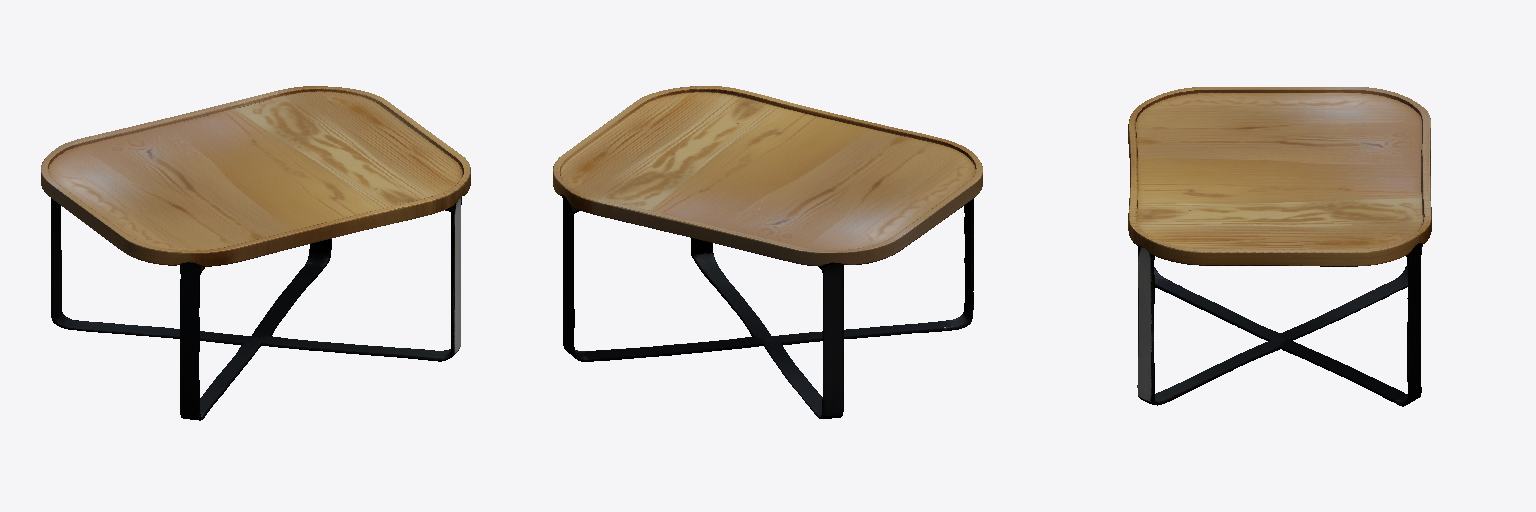
3 renders of one model, left to right at view 1: azimuth 30°, elevation 25°; view 2: azimuth 150°, elevation 25°; view 3: azimuth 270°, elevation 25°, orthographic.
Visible parts, largest first — view 1: geometry_0; view 2: geometry_0; view 3: geometry_0.
Boxes of the visible parts, x1=… form: geometry_0: x1=41, y1=86, x2=470, y2=420; geometry_0: x1=553, y1=86, x2=982, y2=418; geometry_0: x1=1128, y1=87, x2=1431, y2=406.
Size of the model in its own units: 1 by 0.4907 by 0.7756.
Materials: 1 (1 with a texture image).